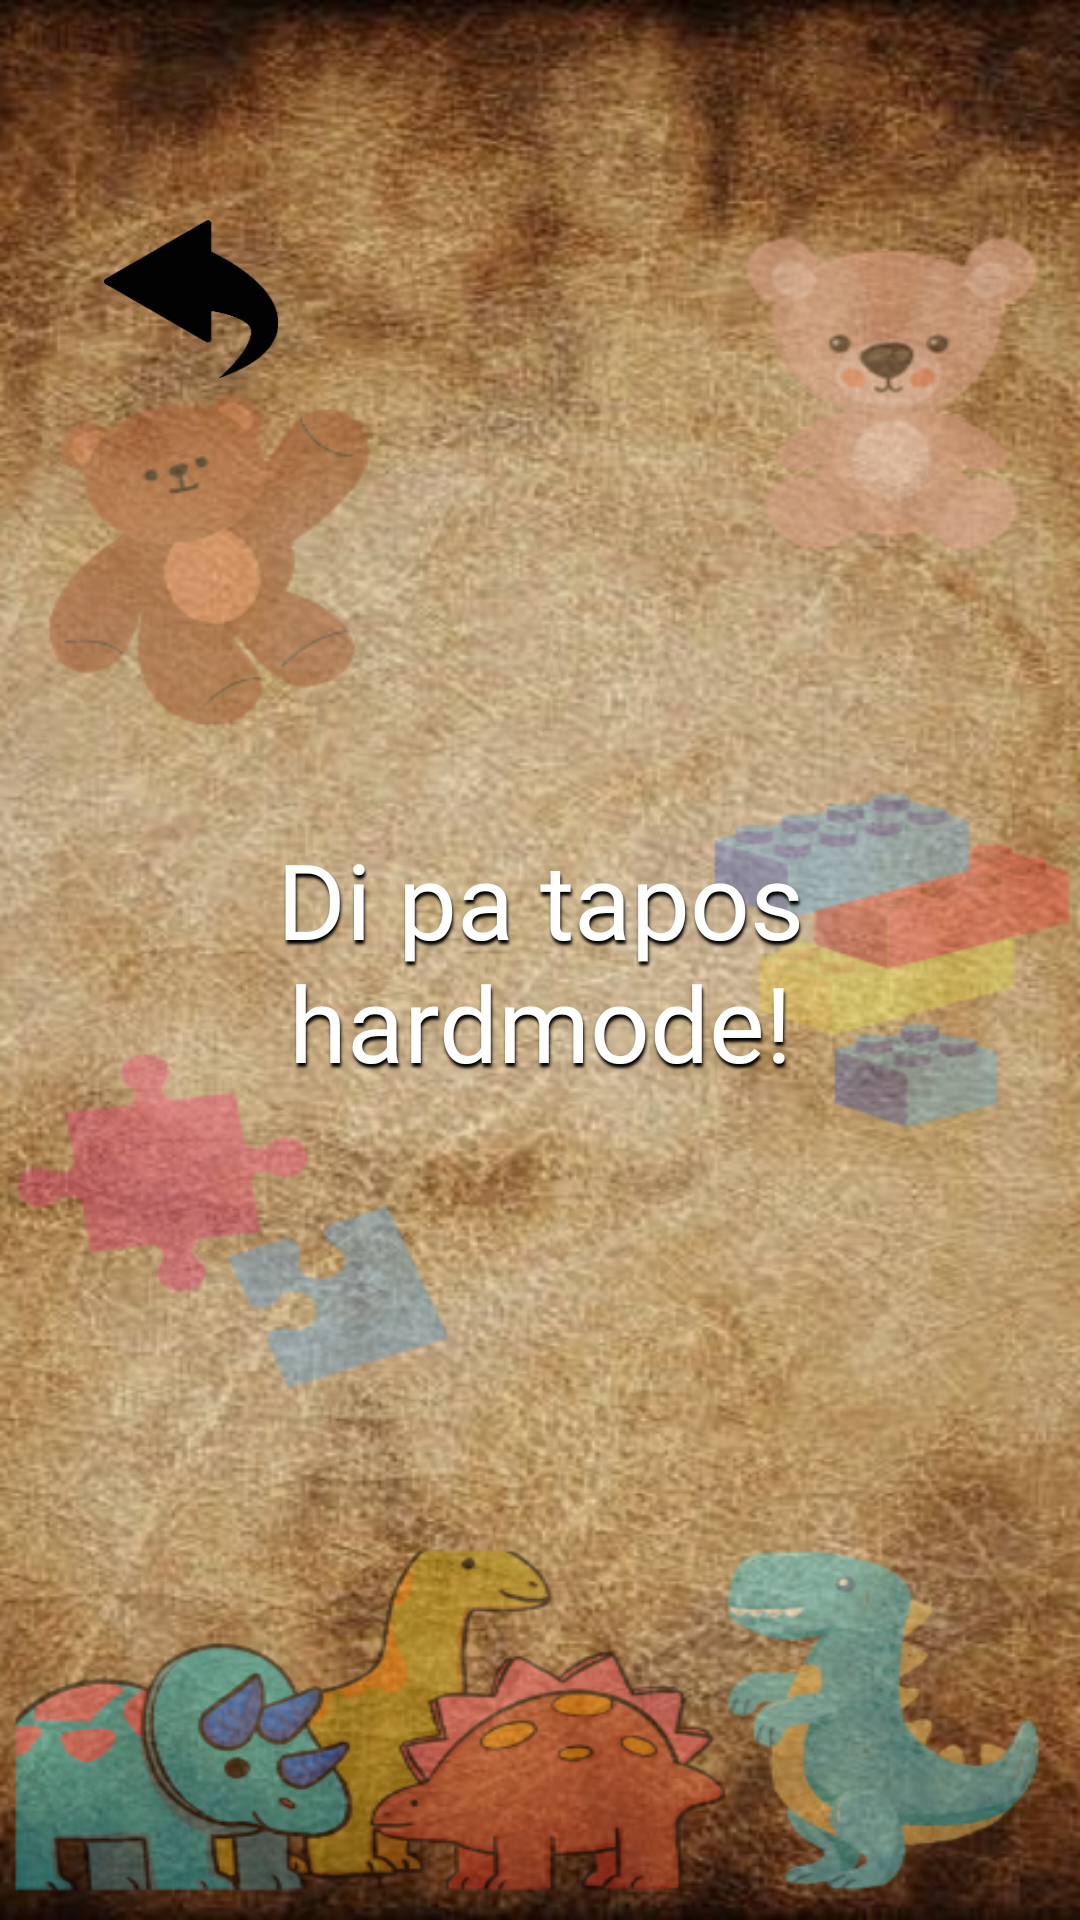

Icon click points for this 1080px×1920px phone screenshot, format point (x, y):
back: point (191, 299)
